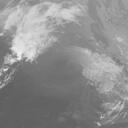cyclone: (42, 33, 104, 85)
